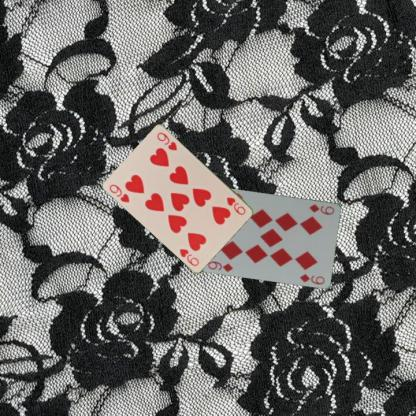9d: (206, 258, 235, 273), (306, 202, 336, 216)
9h: (107, 181, 131, 204), (224, 194, 247, 216)
